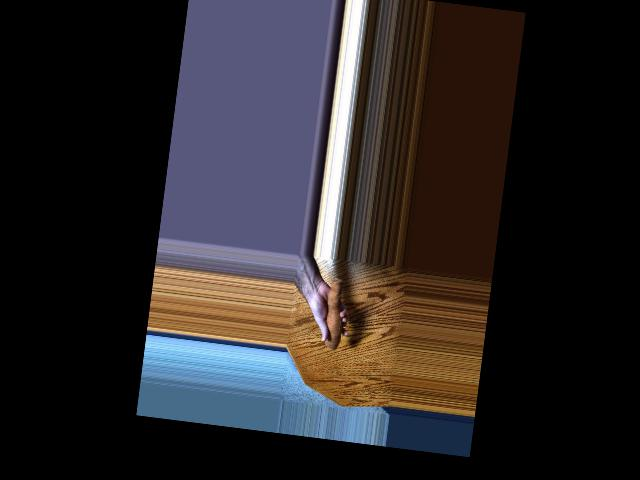sweet_potato: (312, 273, 350, 356)
